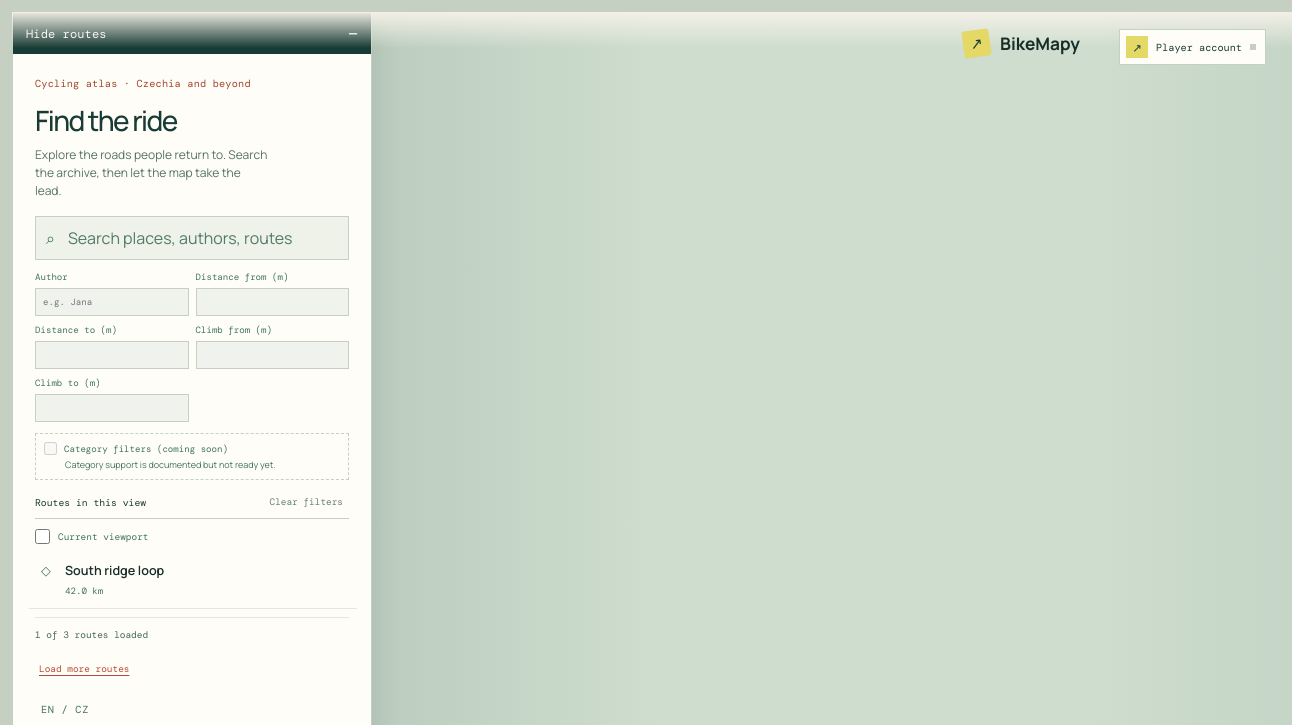
Test: BikeMapy route discovery › deduplicates a page and stops when its next link repeats
The image size is (1292, 725).
Click the button "Load more routes".
click(84, 669)  # box [35,649,134,689]
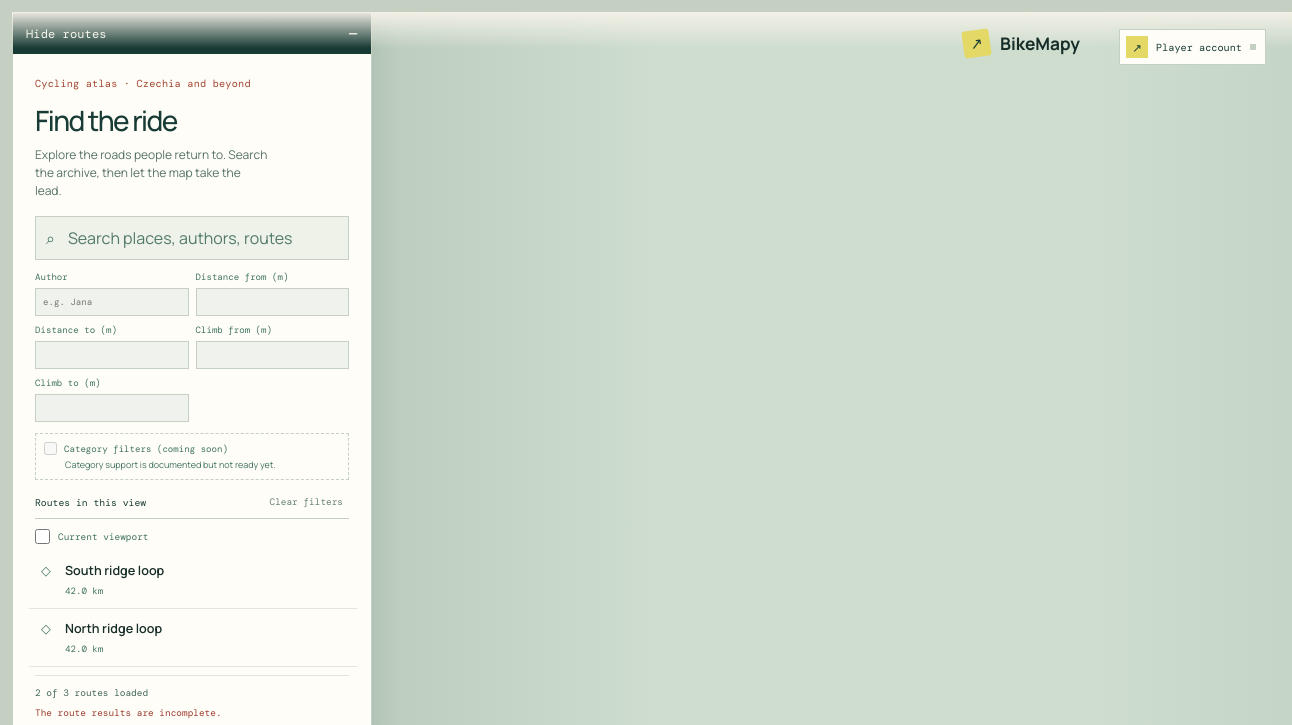
Expected: the number of buttons "◇ North ridge loop 42.0 km" is 1, [27,609,357,667]
Expected: the text "The route results are incomplete." is shown, [35,707,222,719]
Expected: the button "Load more routes" is gone
